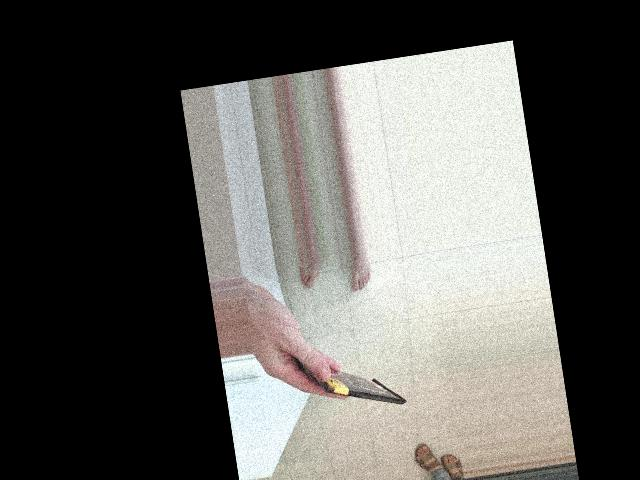chocolate: (352, 352, 433, 468)
